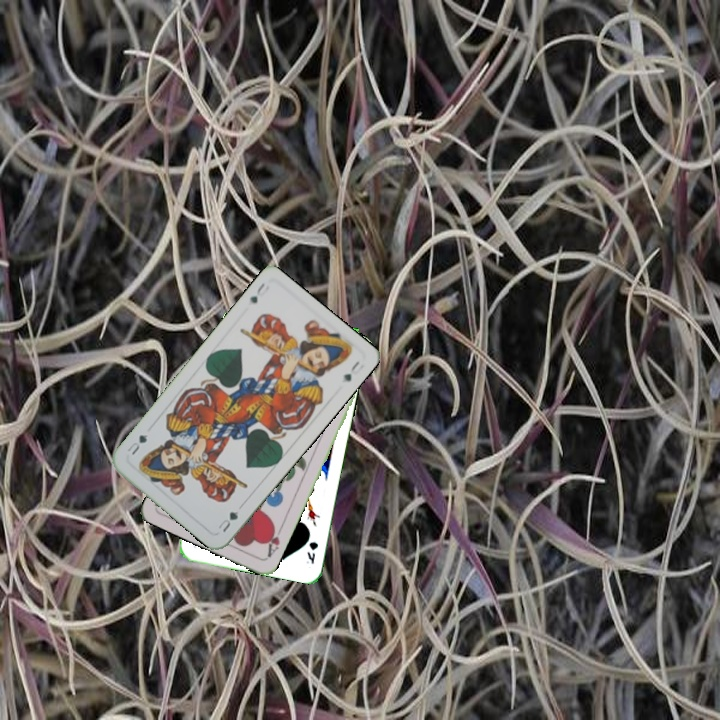GK: (302, 538, 321, 566)
GU: (213, 507, 241, 535), (246, 279, 272, 306)
HA: (261, 520, 285, 560)
